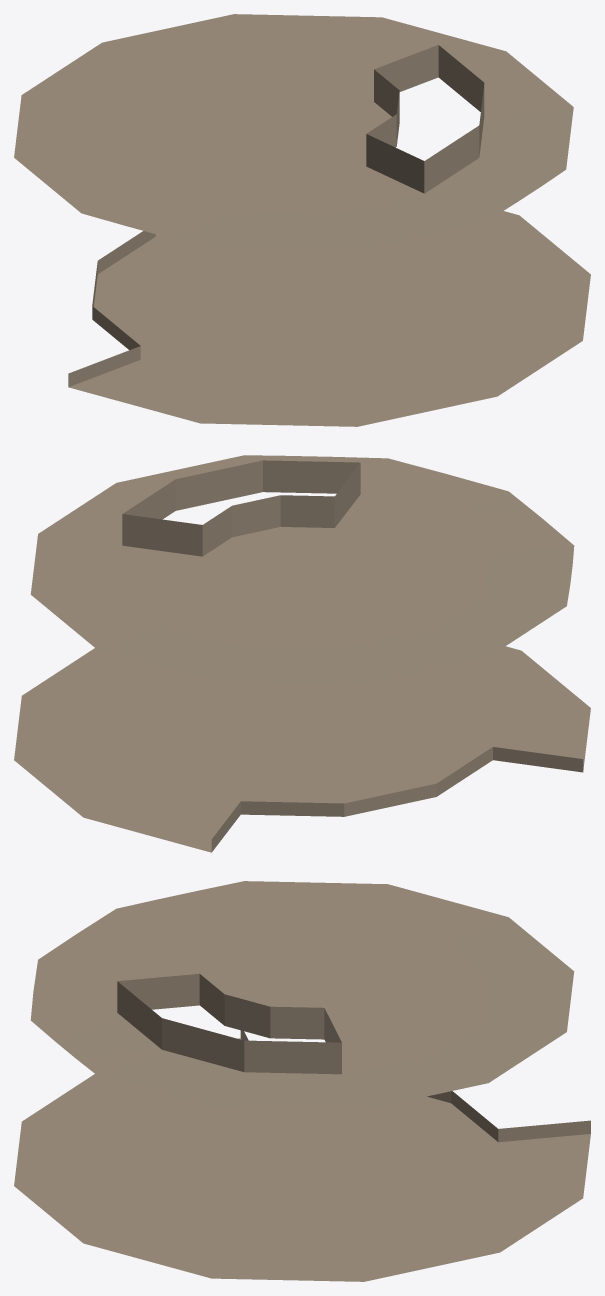
File: castle_tower.glb
3 views of the same model, one above another, from view 1: azimuth 30°, elevation 25°; view 2: azimuth 150°, elevation 25°; view 3: azimuth 270°, elevation 25° (orthographic). The views are drawn at different scales.
Parts seen in each view (by area): view 1: Turret.FrontRight.Floors2.004_passable; view 2: Turret.FrontRight.Floors2.004_passable; view 3: Turret.FrontRight.Floors2.004_passable.
Boxes of the visible parts, x1,y1,x2,y2 form: Turret.FrontRight.Floors2.004_passable: (14, 14, 590, 426); Turret.FrontRight.Floors2.004_passable: (14, 455, 590, 852); Turret.FrontRight.Floors2.004_passable: (14, 881, 590, 1281).
Size of what is drawn, in the model's own units: 1.9 by 0.7116 by 1.9.
